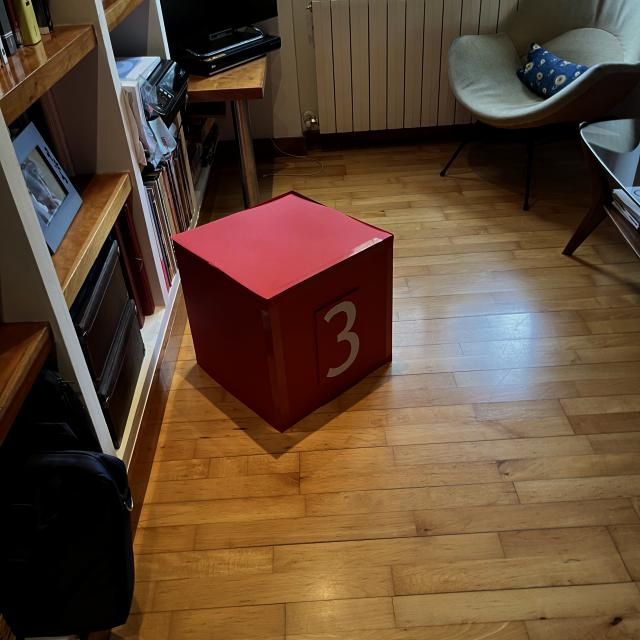box: (169, 186, 397, 434)
